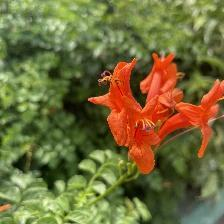honeysuckle: (158, 79, 224, 152), (89, 55, 145, 139), (143, 51, 181, 122)
